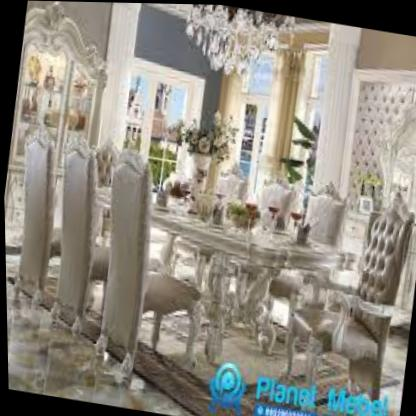Dining Table: (2, 123, 416, 386)
